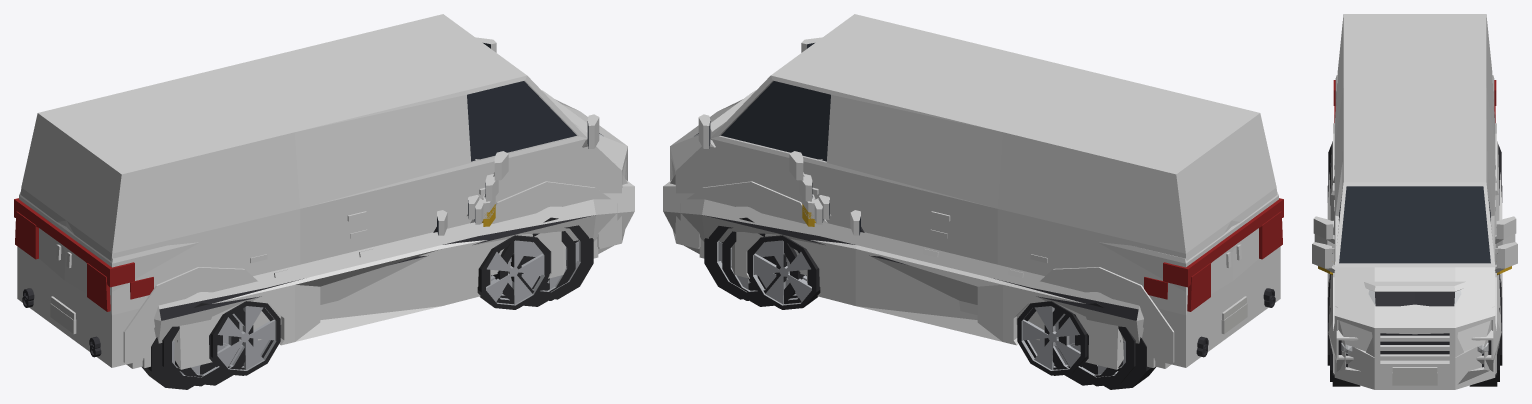
Rendered from traffic.glb.
3 views of the same model, side by side, from view 1: azimuth 30°, elevation 25°; view 2: azimuth 150°, elevation 25°; view 3: azimuth 270°, elevation 25° (orthographic). The views are drawn at different scales.
Parts seen in each view (by area): view 1: van, sports, pickup, muscle, suv; view 2: van, sports, pickup, muscle, suv; view 3: van, pickup, muscle, sports, suv.
Boxes of the visible parts, x1,y1,x2,y2 form: van: (15,14,627,389); sports: (174,210,566,375); pickup: (14,90,627,386); muscle: (154,180,634,375); suv: (126,174,598,385); van: (670,14,1282,389); sports: (731,210,1123,375); pickup: (670,90,1283,386); muscle: (663,180,1143,375); suv: (699,174,1171,385); van: (1312,14,1517,389); pickup: (1313,75,1516,384); muscle: (1328,141,1501,371); sports: (1327,172,1502,365); suv: (1314,106,1515,374).
Bounding box in the file's own units: 5.1 × 2.02 × 1.95.
